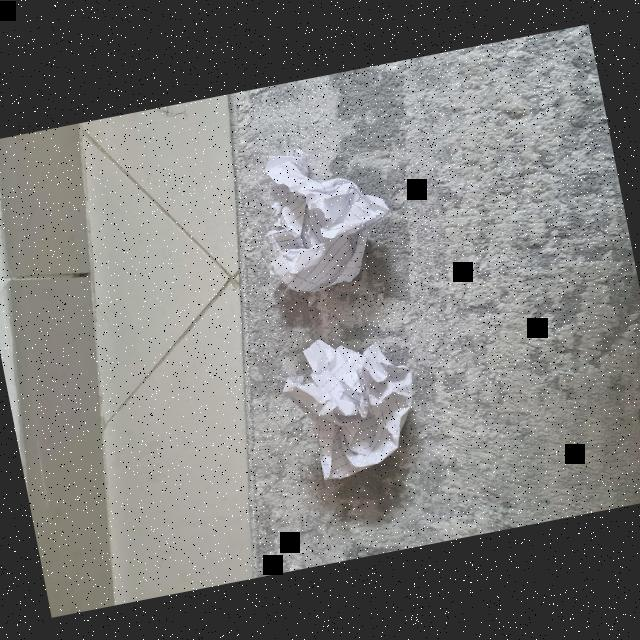scrap_paper: (246, 136, 407, 302), (274, 324, 428, 485)
